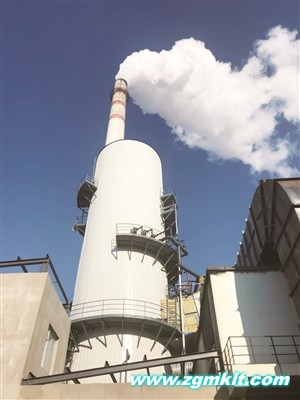dust: (113, 32, 262, 130)
